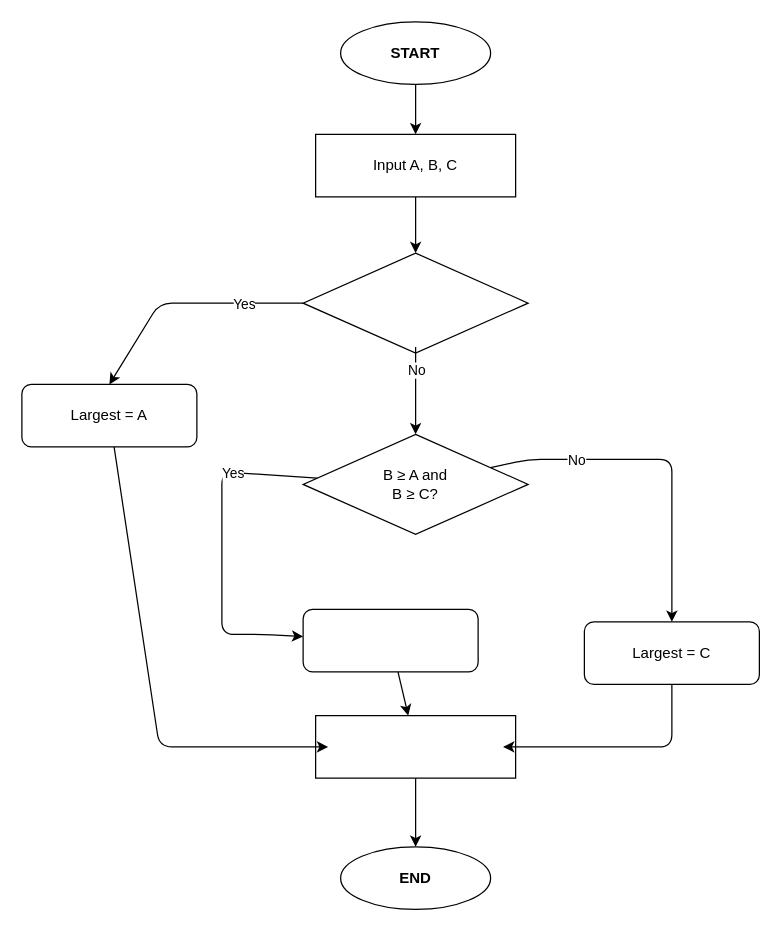
This 781x931 diagram has some shape labels left out. Each missing label, with the centre of its shape:
A ≥ B and A ≥ C?: the point at 415,302
Display Largest: the point at 415,746
Largest = B: the point at 390,640
